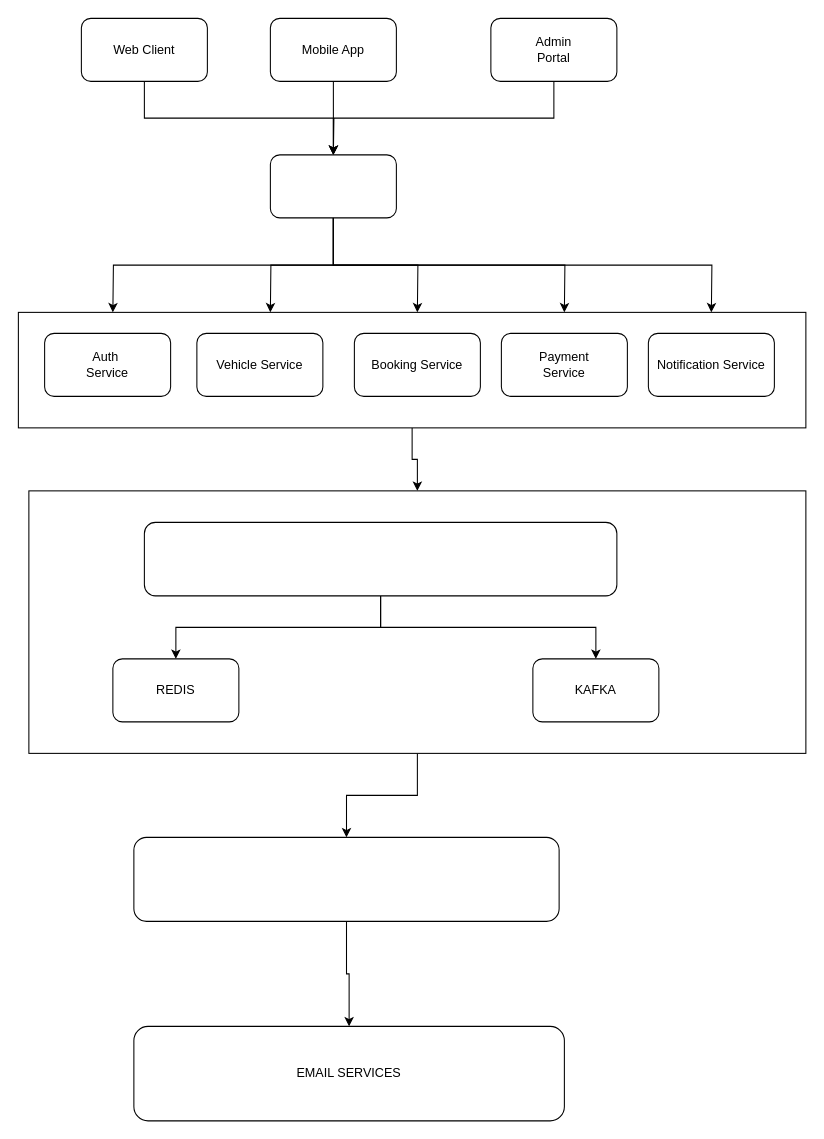
This 824x1139 diagram has some shape labels left out. The centre of each missing label's shape, as x and y in pixels:
API GATEWAY: the point at 332,186
DATA BASE: the point at 380,558
EXTERNAL PAYMENT GATEWAY: the point at 346,878
